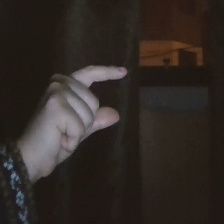G: (23, 59, 137, 183)
